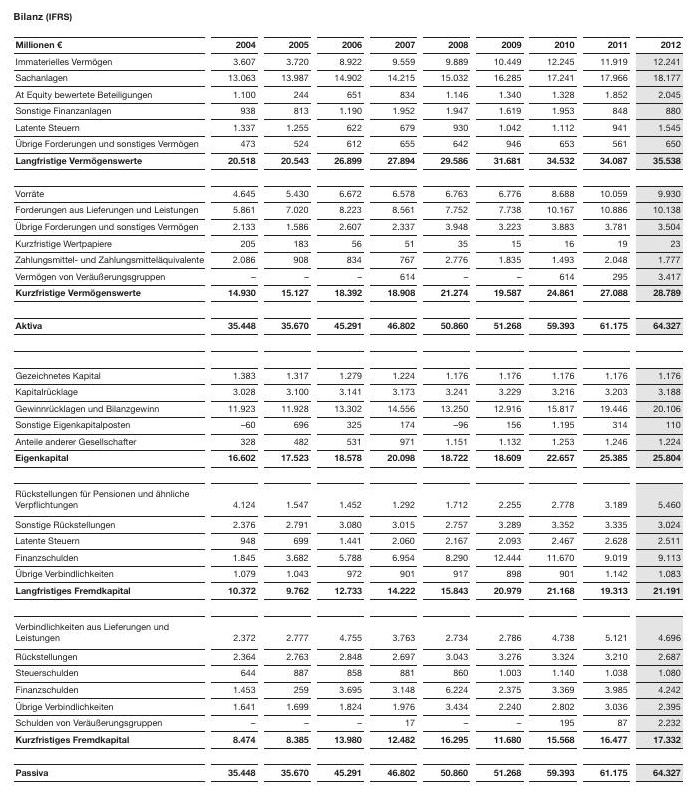table: (0, 0, 697, 792)
